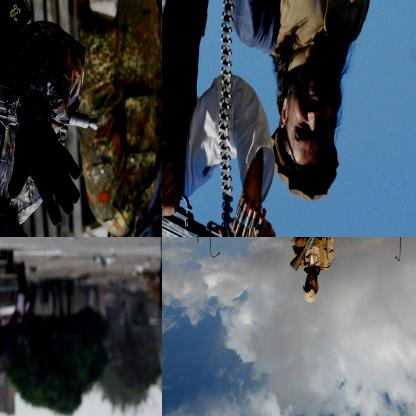rifle: (162, 151, 404, 236), (0, 0, 105, 148), (288, 237, 340, 271)
